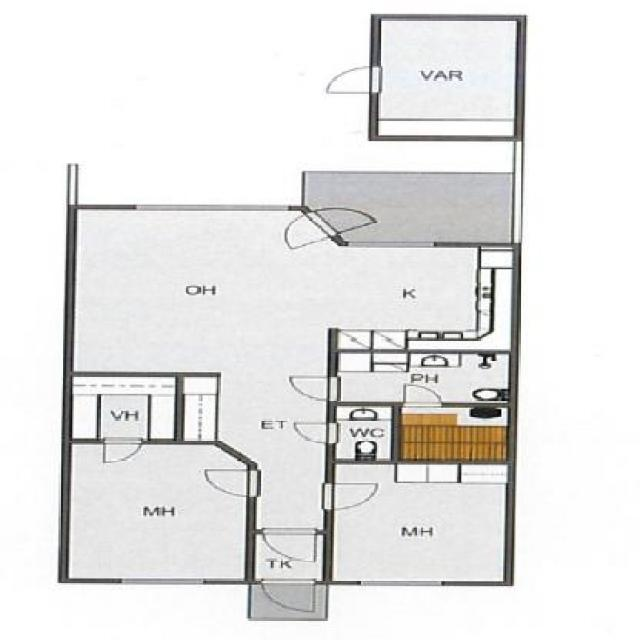door: (278, 206, 380, 251), (202, 468, 269, 503), (286, 374, 354, 403), (263, 526, 317, 562), (263, 578, 317, 614), (323, 66, 389, 95), (314, 484, 380, 510), (288, 422, 344, 448), (402, 380, 446, 411), (98, 437, 142, 465)
window: (354, 238, 437, 251), (136, 205, 286, 212), (358, 578, 444, 590), (122, 577, 206, 585)
zone: (78, 208, 530, 526), (73, 445, 250, 580), (340, 463, 502, 580), (381, 17, 514, 134), (306, 174, 514, 241), (340, 352, 506, 402), (77, 374, 172, 437), (402, 408, 506, 462), (340, 408, 392, 457)
